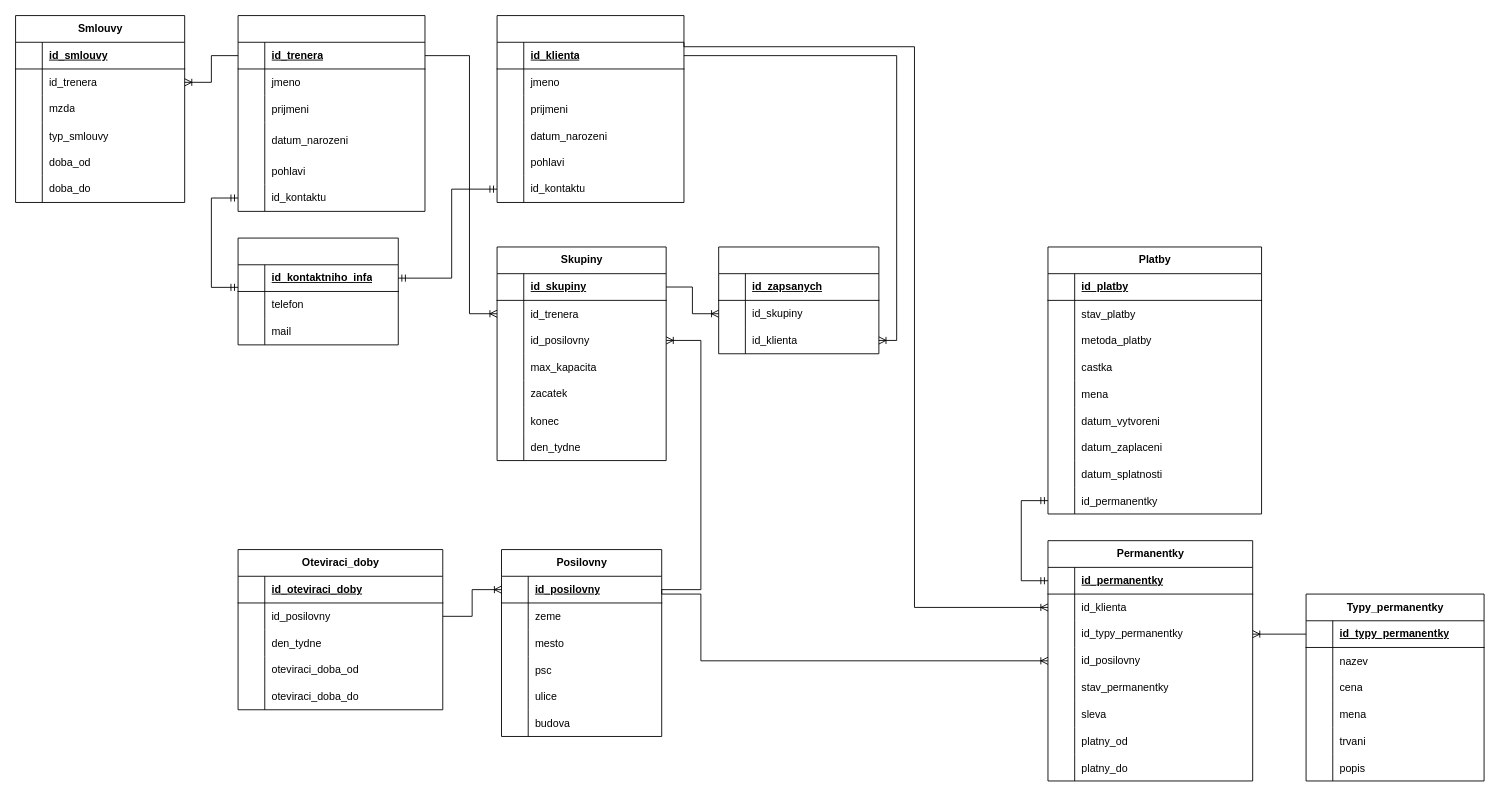
Some shapes in this 1500 by 797 pixel diagram are drawn without their labels. The box of each missing label's shape, as (x1, y1, x2, y2) in pixels:
Klienti: (496, 15, 684, 202)
Kontakty: (237, 237, 398, 345)
Treneri: (237, 15, 425, 211)
Zapsani: (718, 246, 879, 354)
